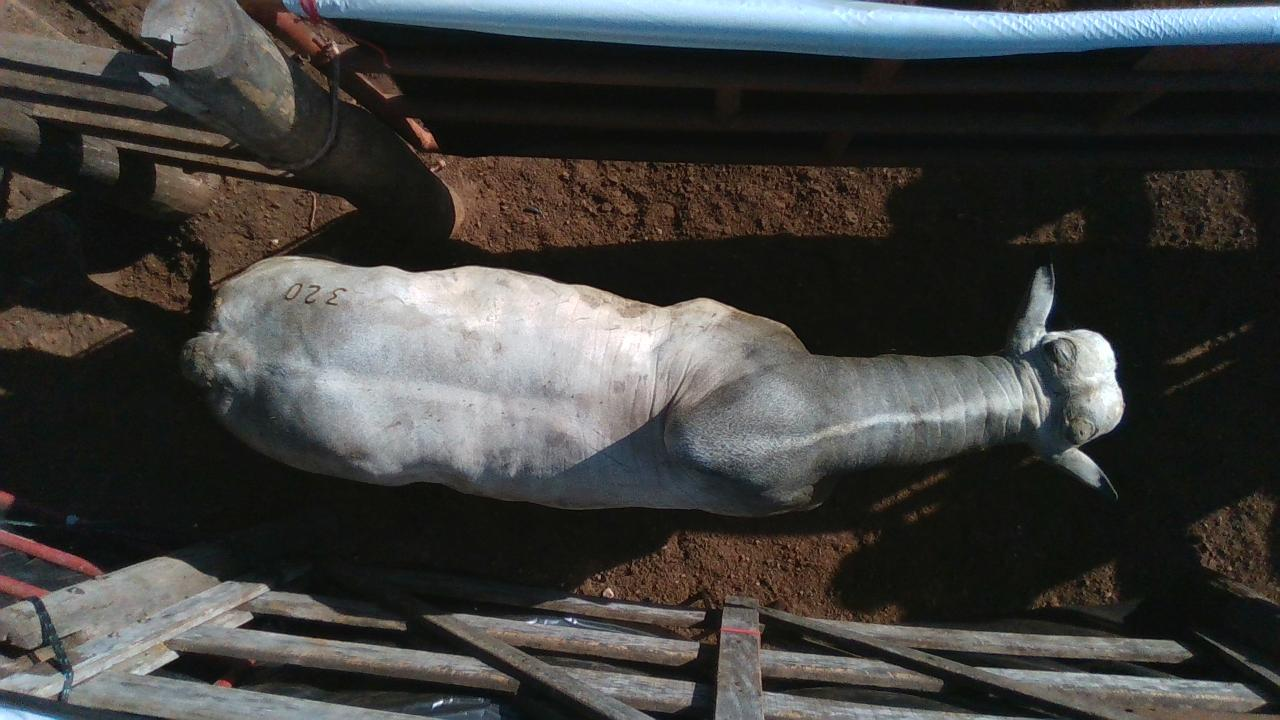cattle: (178, 253, 1126, 520)
